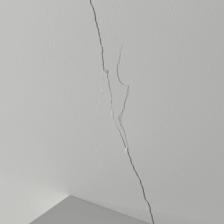Medium: (81, 2, 168, 214)
